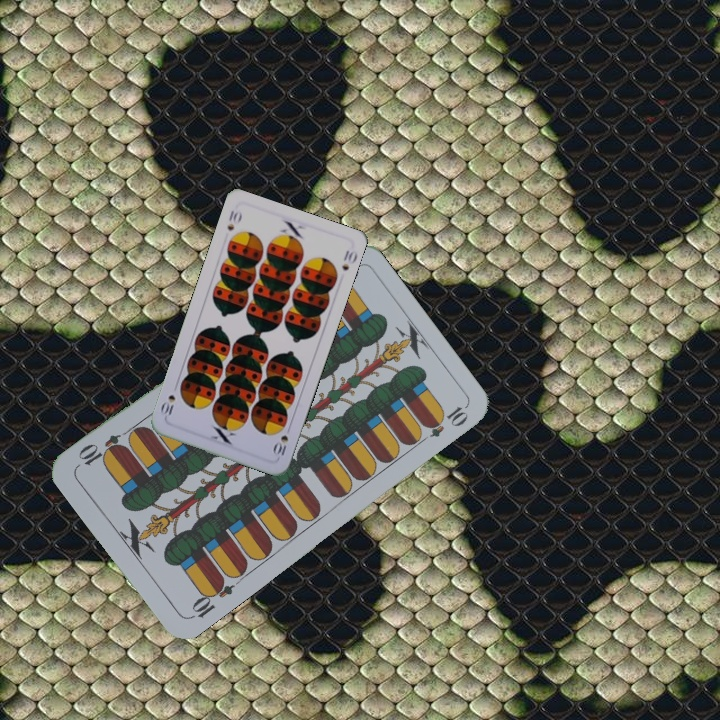E10: (186, 573, 236, 622)
S10: (269, 420, 294, 459), (223, 206, 244, 233)
